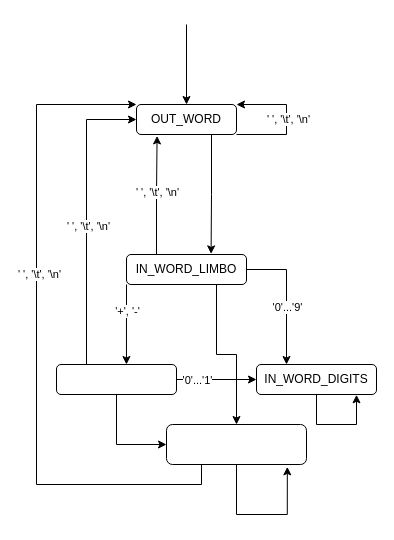
Some shapes in this 394 by 540 pixel diagram are drawn without their labels. The shapes that lost their labels are listed below. From the top down, each one's box as (x1, y1, x2, y2) in pixels, then its label:
(56, 364, 176, 394): IN_WORD_SIGN
(166, 424, 306, 464): IN_WORD_NOT_NUM
